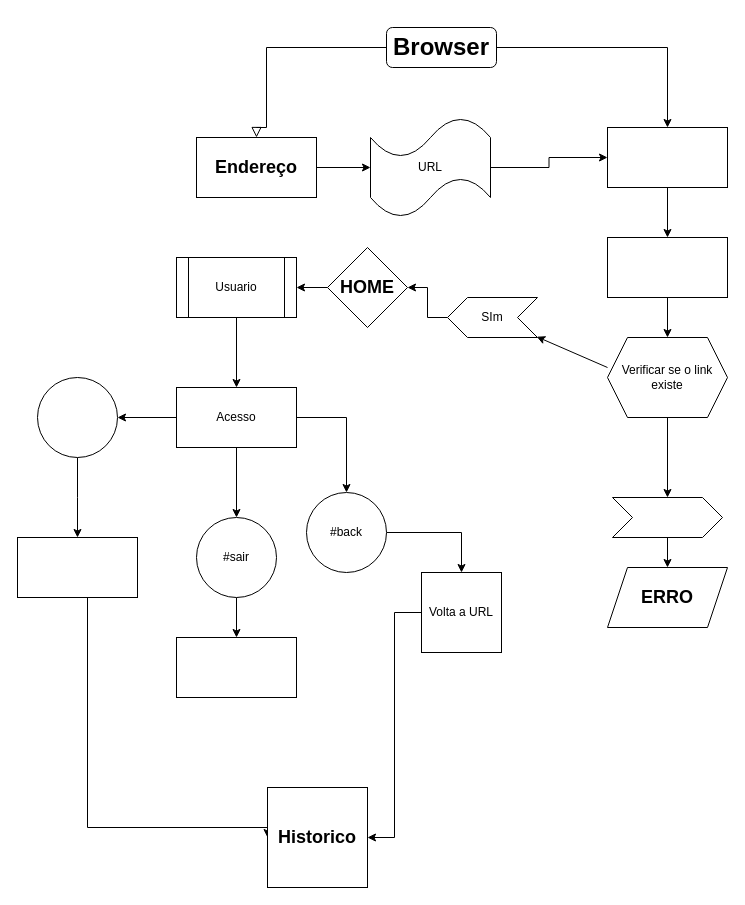
Some shapes in this 745 by 905 pixel diagram are drawn without their labels. The shapes that lost their labels are listed below. From the top down, each one's centre as x and y in pixels, then its label:
At point (667, 157): "DNS".
At point (667, 267): "Encontrar link".
At point (77, 417): "#showhist".
At point (667, 517): "não".
At point (77, 567): "Mostra O historico".
At point (236, 667): "Sai do programa".
